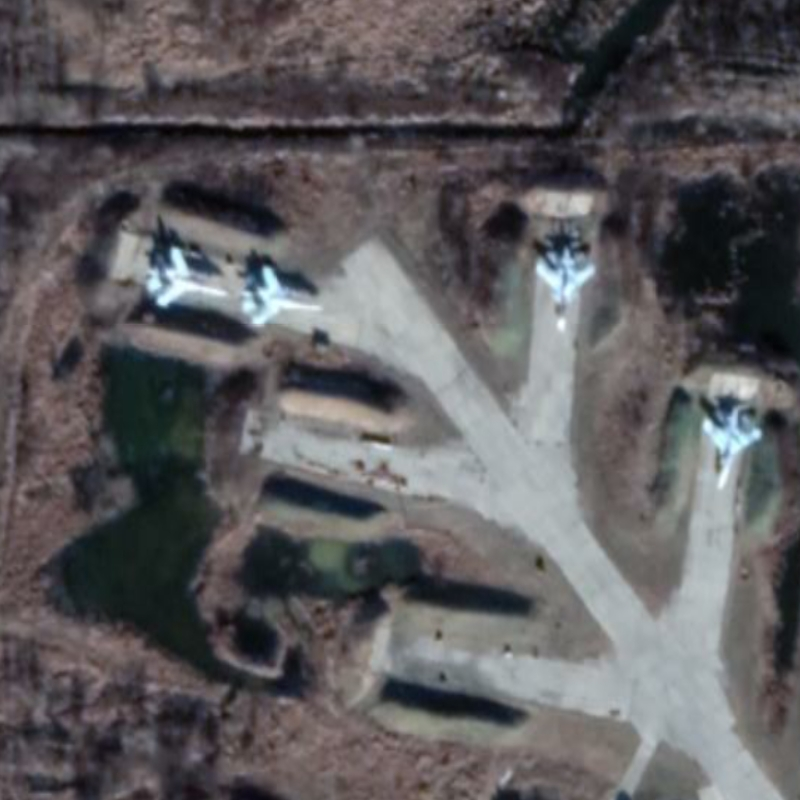A1: (700, 399, 764, 491), (143, 244, 230, 310), (239, 263, 327, 327)
A19: (534, 244, 597, 334)
